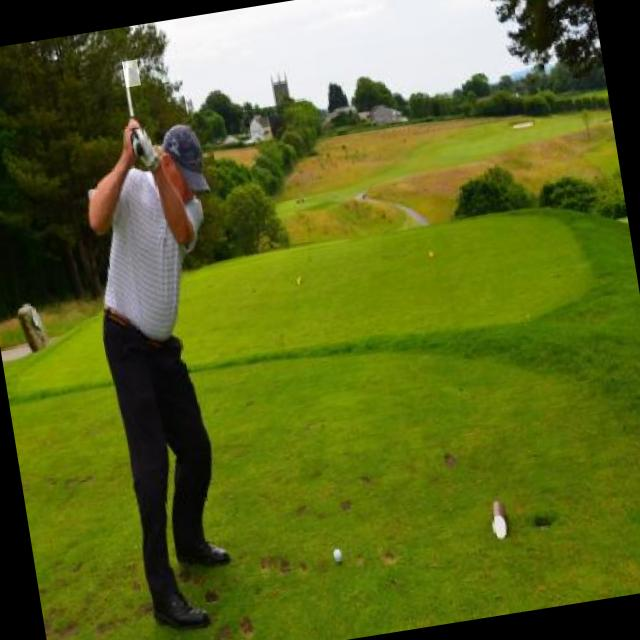club head: (122, 60, 141, 88)
